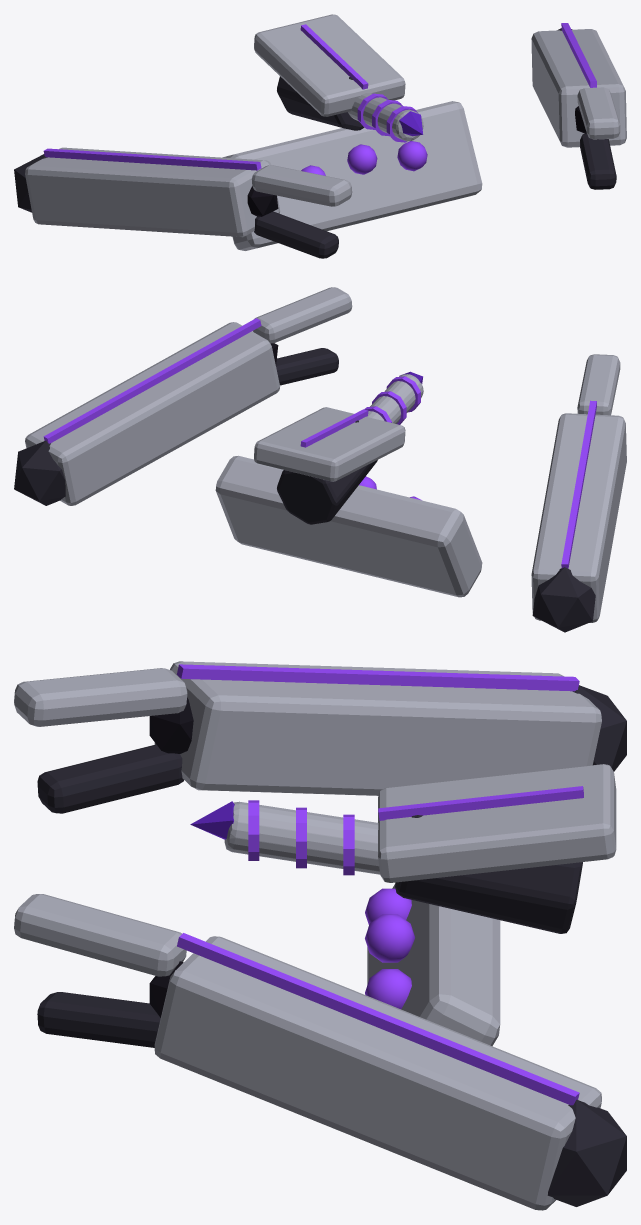
Rendered from crucible_view.fbx.
The picture shows the model from 3 angles, top to bottom: view 1: azimuth 30°, elevation 25°; view 2: azimuth 150°, elevation 25°; view 3: azimuth 270°, elevation 25°; orthographic projection. The views are drawn at different scales.
Visible parts, largest first — view 1: crucible_view; view 2: crucible_view; view 3: crucible_view.
Boxes of the visible parts, x1,y1,x2,y2 form: crucible_view: (14,14,626,258); crucible_view: (14,287,626,632); crucible_view: (14,661,626,1210).
Bounding box in the file's own units: 1.37 × 0.3733 × 0.7734.
